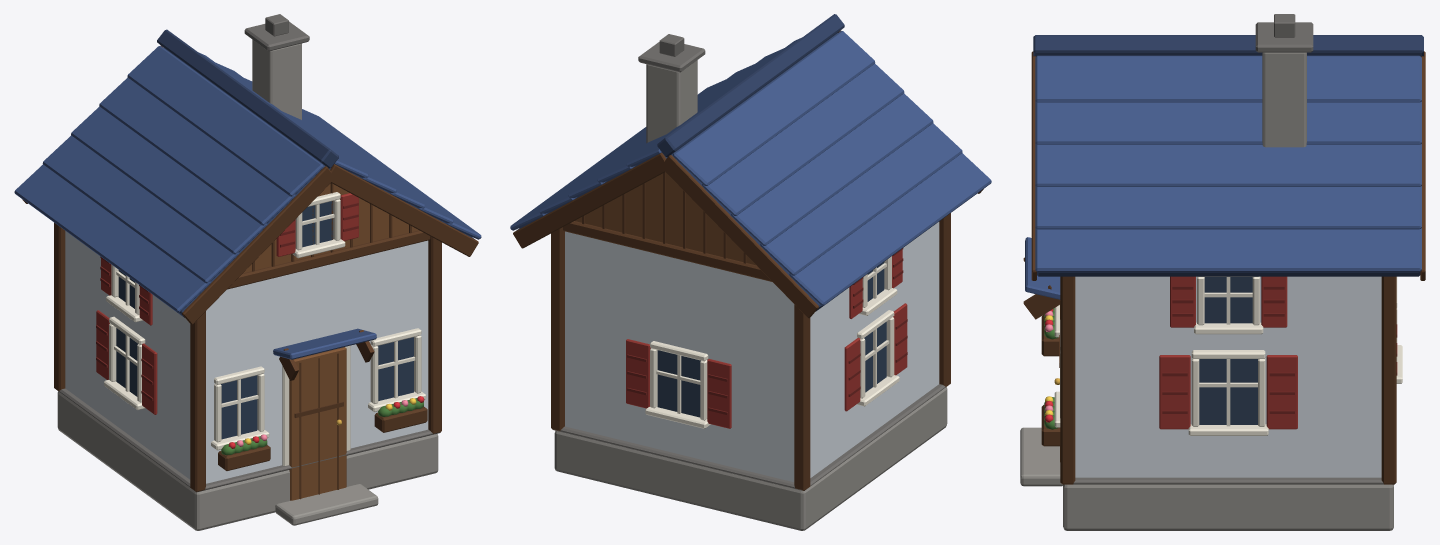
The model's file is house_1.glb.
3 renders of one model, left to right at view 1: azimuth 30°, elevation 25°; view 2: azimuth 150°, elevation 25°; view 3: azimuth 270°, elevation 25°, orthographic. The views are drawn at different scales.
Parts seen in each view (by area): view 1: House1; view 2: House1; view 3: House1.
Boxes of the visible parts, <box> form: House1: <box>14,14,481,530</box>; House1: <box>510,14,991,530</box>; House1: <box>1020,14,1425,530</box>.
Size of the model in its own units: 3.89 by 4.91 by 3.8.
